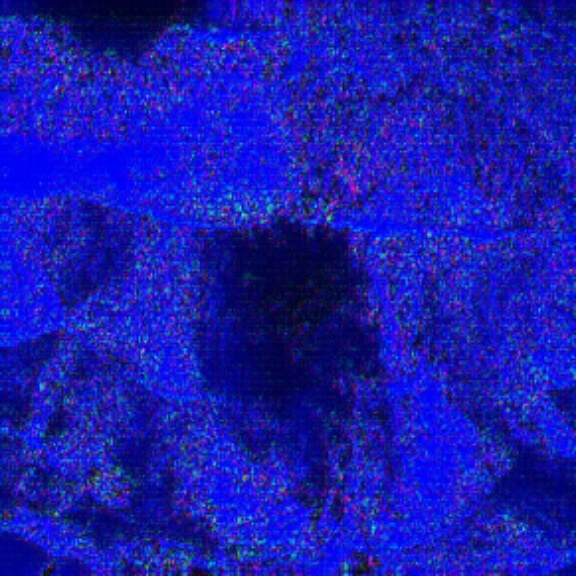rip_current: (159, 160, 454, 559)
